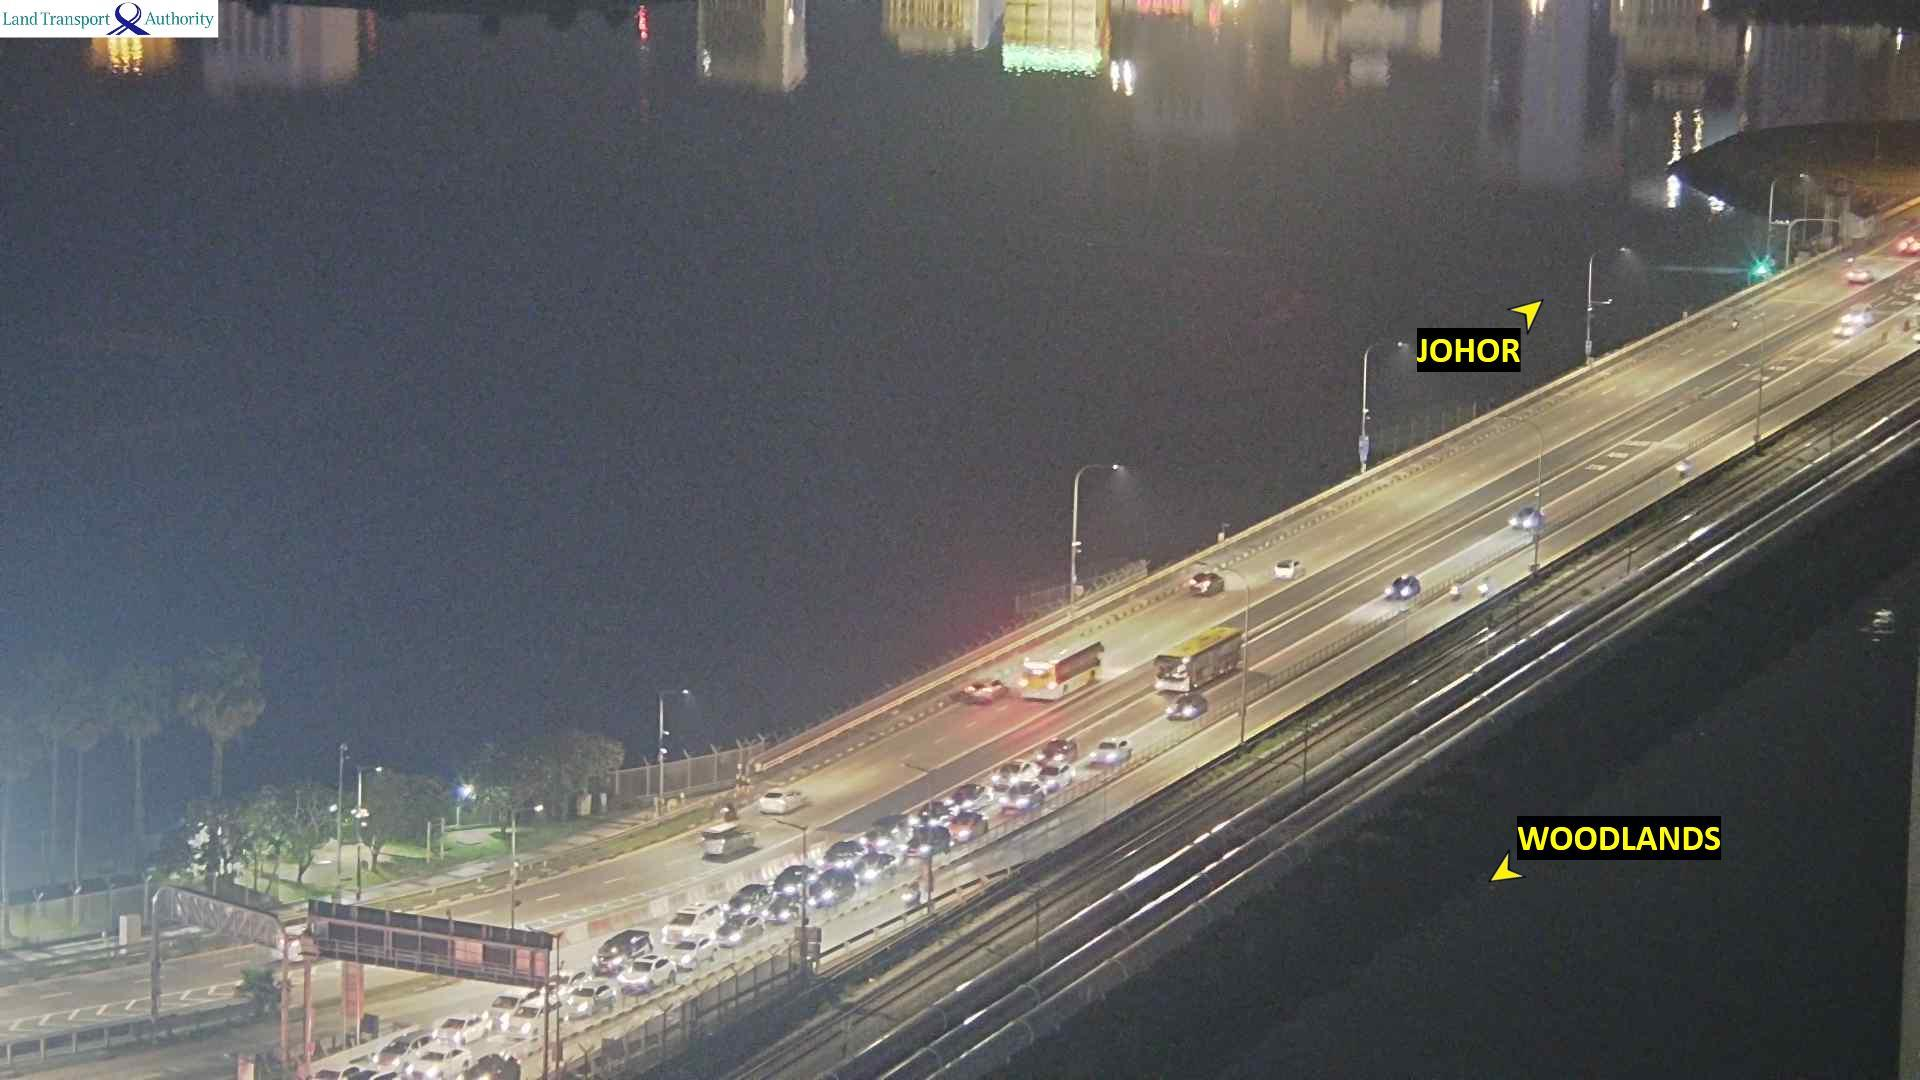vehicle-causeway-johor: (1029, 636, 1101, 692), (700, 825, 762, 857), (762, 786, 818, 811), (968, 676, 1002, 704), (1187, 572, 1224, 597), (1849, 269, 1894, 286), (1276, 559, 1302, 579), (1731, 318, 1738, 330)
vehicle-causeway-singapore: (1150, 630, 1241, 691), (377, 1030, 427, 1071), (665, 901, 717, 936), (405, 1051, 472, 1079), (564, 980, 615, 1017), (671, 931, 713, 972), (497, 1000, 549, 1031), (811, 869, 852, 907), (615, 965, 675, 990), (1085, 738, 1129, 773), (862, 814, 901, 849), (721, 915, 761, 949), (597, 932, 657, 955), (438, 1013, 480, 1043), (902, 825, 944, 856), (993, 757, 1038, 785), (725, 881, 760, 916), (853, 853, 893, 884), (771, 893, 808, 924), (1001, 787, 1047, 812), (953, 808, 992, 836), (771, 865, 804, 897), (1164, 698, 1207, 721), (825, 837, 856, 870), (313, 1059, 359, 1080), (1387, 571, 1415, 601), (1035, 761, 1068, 786), (913, 804, 943, 829), (956, 783, 985, 808), (1038, 737, 1072, 757), (1510, 508, 1536, 533), (1842, 302, 1870, 323), (1832, 316, 1855, 339), (1676, 455, 1693, 477)
